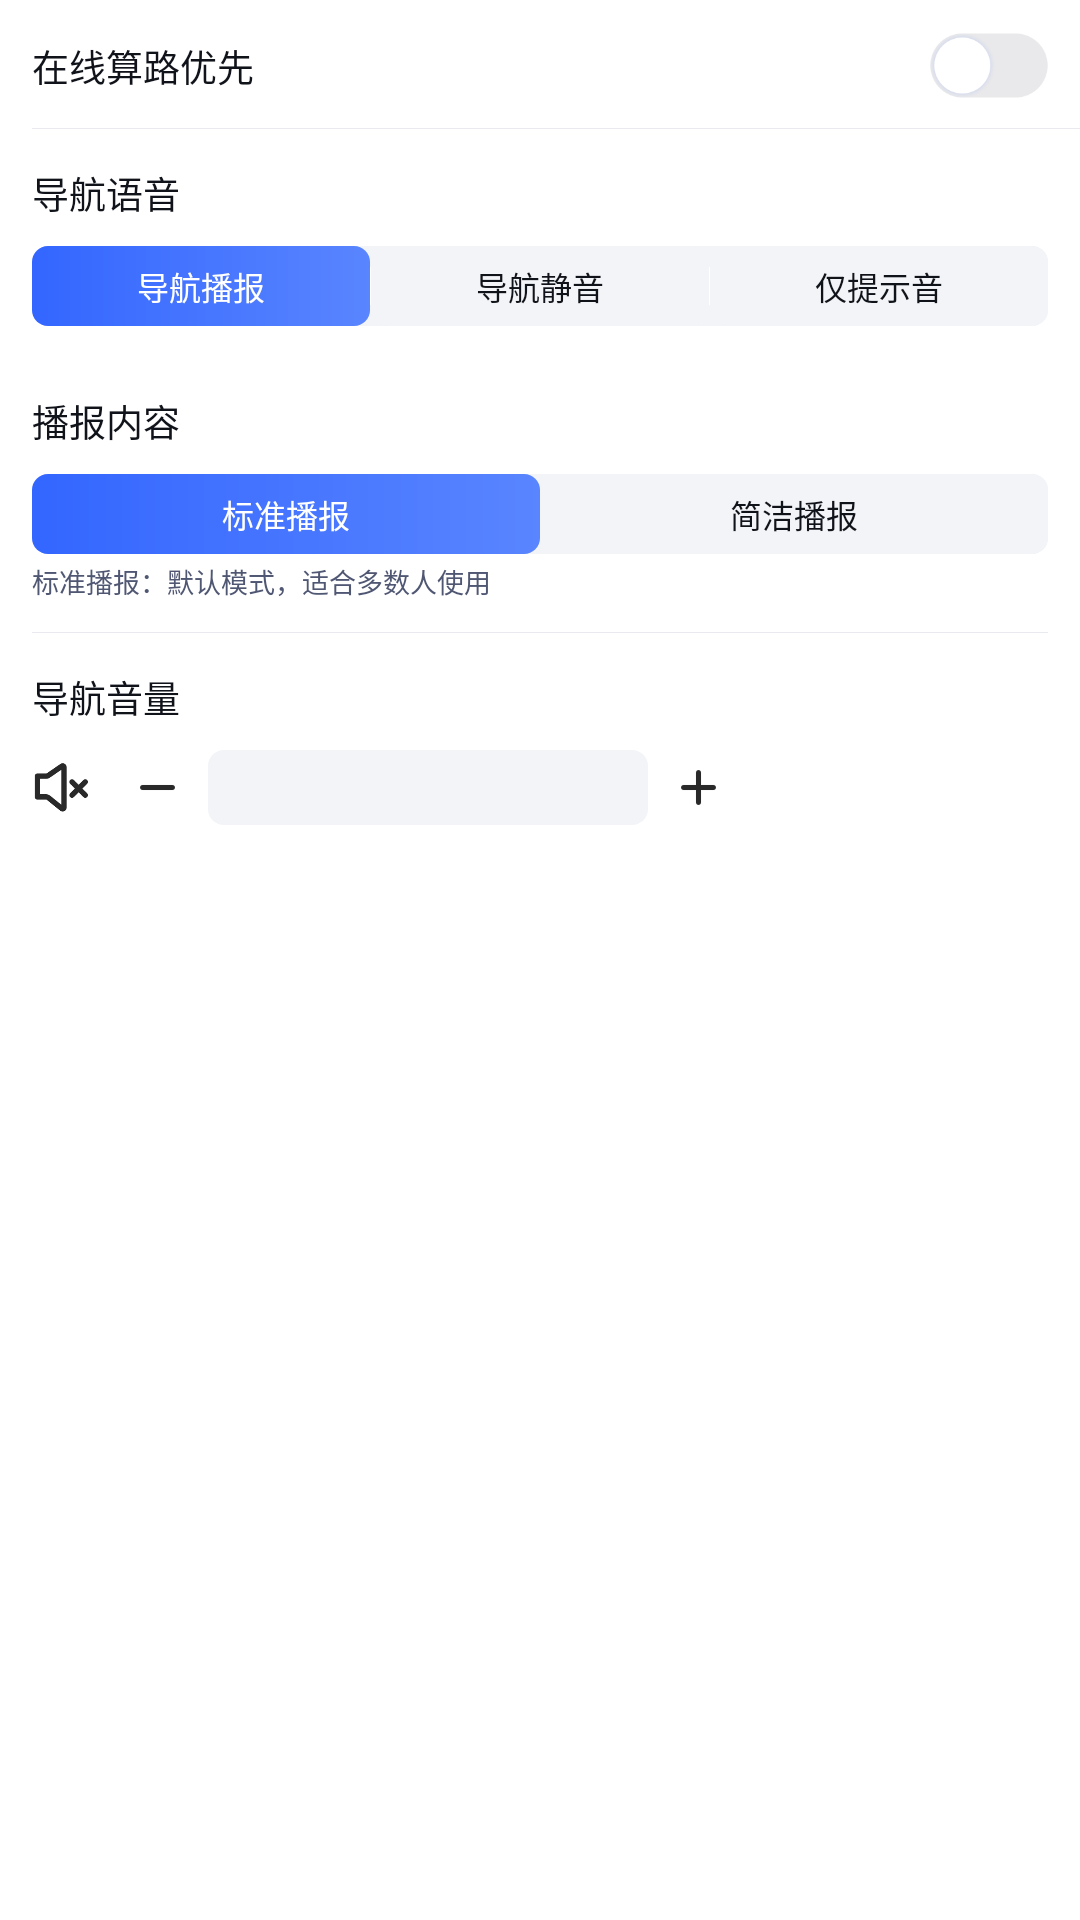

Icon click points for this 1080x1920 phone screenshot, format [x,y]:
increase: [698,787]
